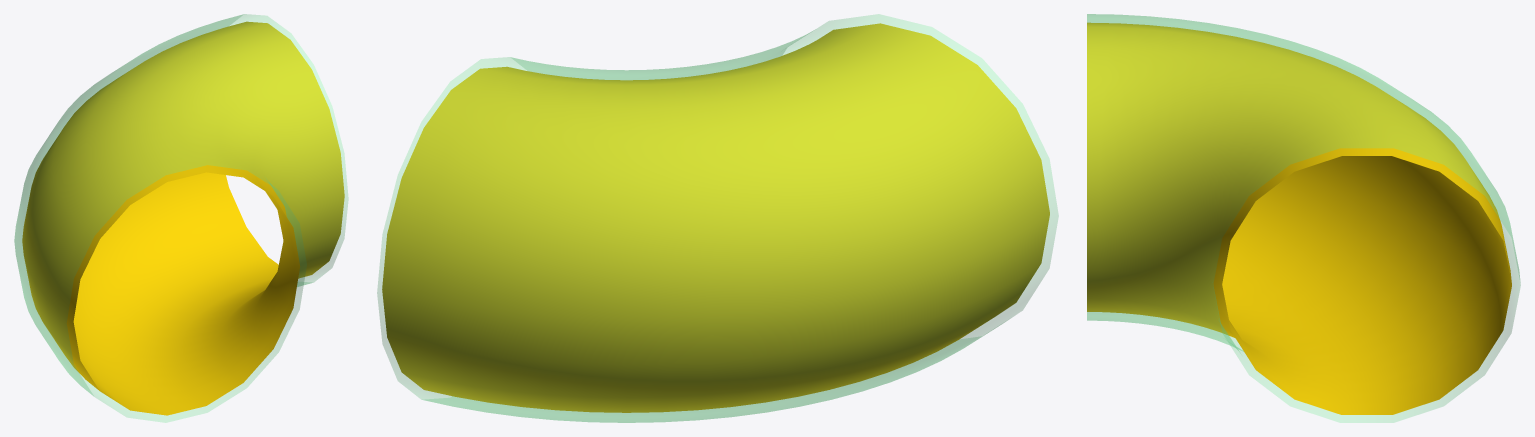
Rendered from 冷却回-弯头.glb.
The picture shows the model from 3 angles, left to right: view 1: azimuth 30°, elevation 25°; view 2: azimuth 150°, elevation 25°; view 3: azimuth 270°, elevation 25°; orthographic projection. The views are drawn at different scales.
Visible parts, largest first — view 1: 贴图, Box001; view 2: Box001, 贴图; view 3: 贴图, Box001.
Part boxes in pixels (x1,y1,x2,y2): 贴图: (22,21,344,415); Box001: (14,14,348,422); Box001: (377,14,1058,422); 贴图: (382,23,1049,412); 贴图: (1087,22,1511,414); Box001: (1087,14,1520,422).
Size of the model in its own units: 4.93 by 3.45 by 4.93.
